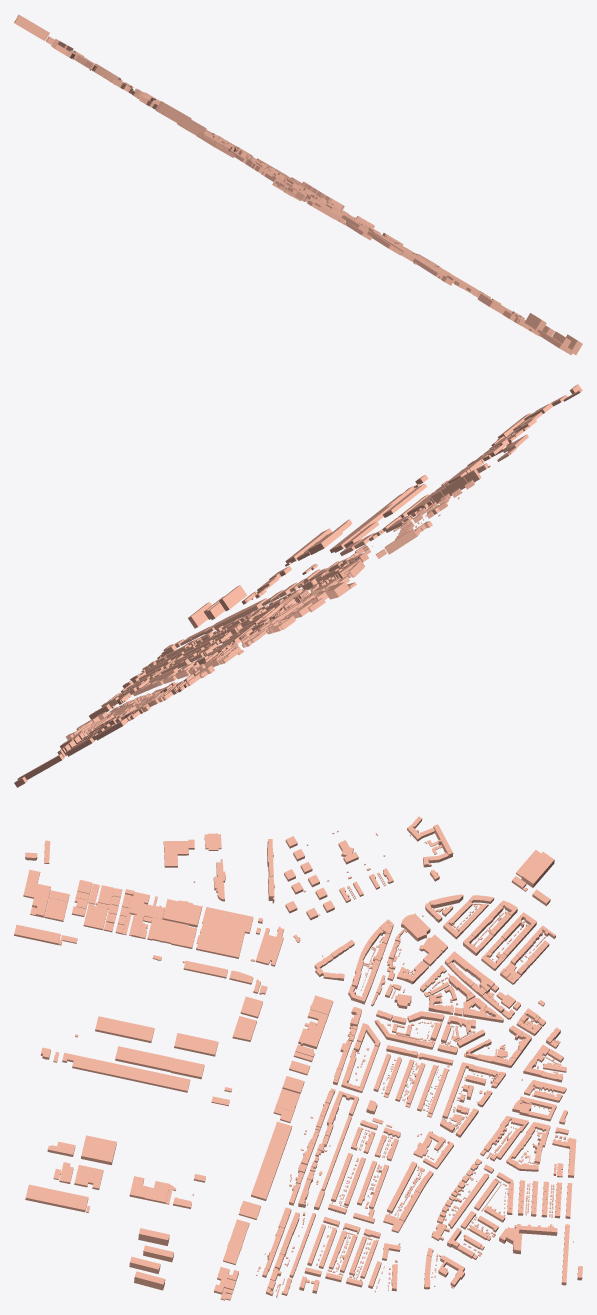
3 views of the same model, one above another, from view 1: azimuth 30°, elevation 25°; view 2: azimuth 150°, elevation 25°; view 3: azimuth 270°, elevation 25° (orthographic). The views are drawn at different scales.
Size of the model in its own units: 1005 by 766 by 1307.
